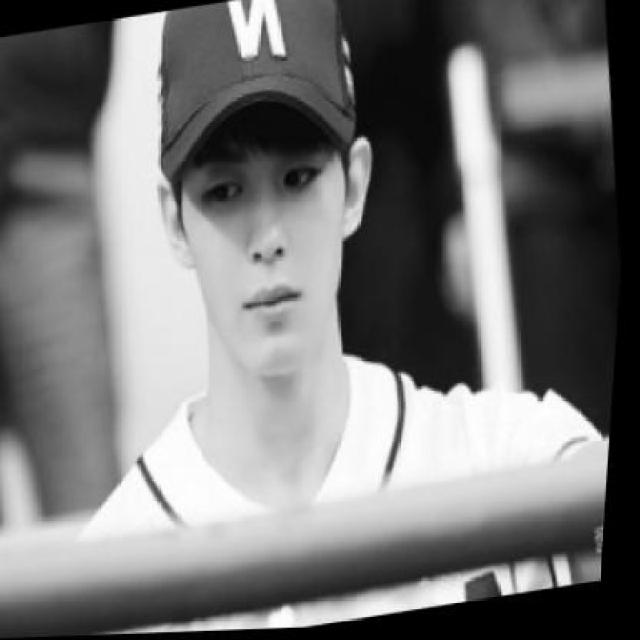hat: (138, 0, 372, 182)
